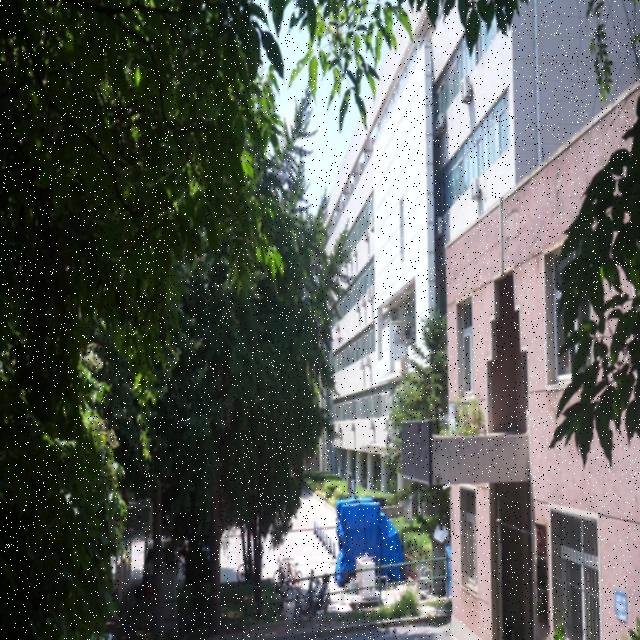UAV: (337, 336, 345, 346)
